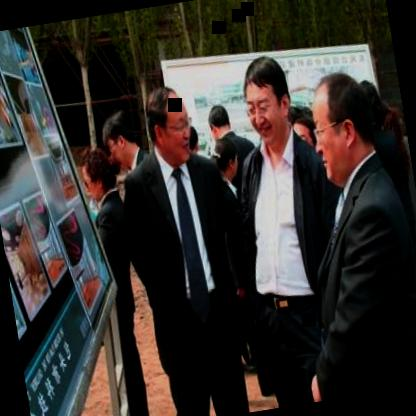head: (306, 62, 388, 186), (235, 48, 300, 148), (144, 81, 198, 165), (95, 102, 144, 173), (75, 143, 117, 204), (209, 130, 249, 186), (202, 98, 236, 148)
